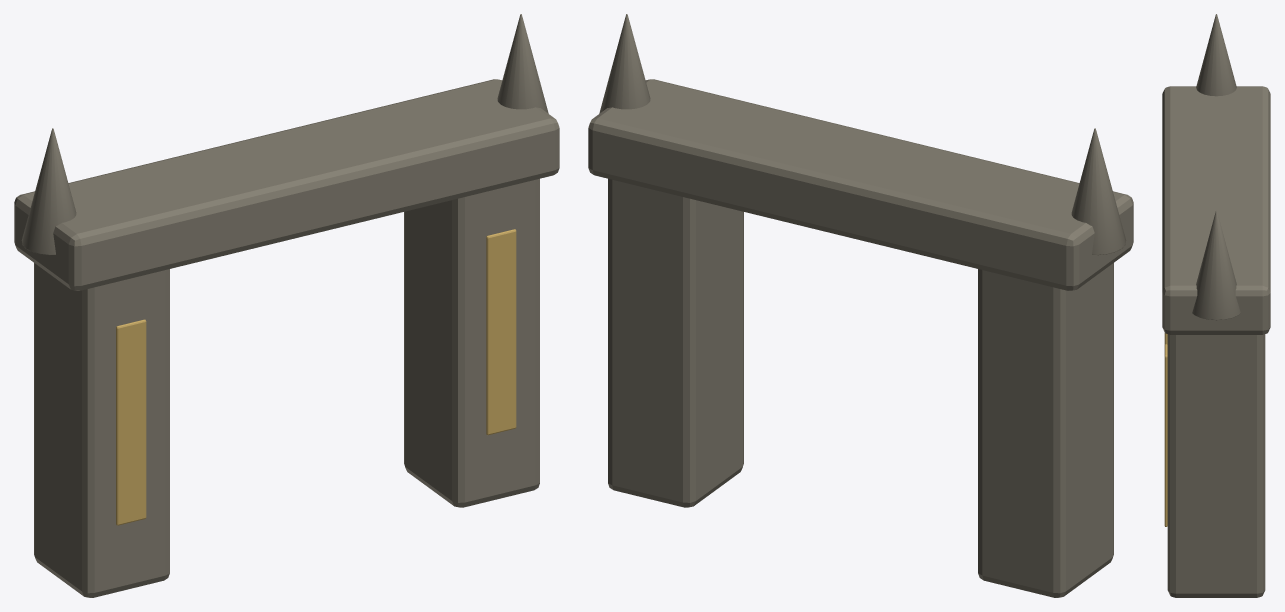
Rendered from landmark-dragon.glb.
3 renders of one model, left to right at view 1: azimuth 30°, elevation 25°; view 2: azimuth 150°, elevation 25°; view 3: azimuth 270°, elevation 25°, orthographic. The views are drawn at different scales.
Visible parts, largest first — view 1: Geometry_Stone, Geometry_Gold; view 2: Geometry_Stone; view 3: Geometry_Stone, Geometry_Gold.
Part boxes in pixels (<box>): Geometry_Stone: <box>14,14,559,597</box>; Geometry_Gold: <box>116,229,516,525</box>; Geometry_Stone: <box>588,14,1133,597</box>; Geometry_Stone: <box>1162,14,1270,597</box>; Geometry_Gold: <box>1164,333,1167,526</box>.
Bounding box in the file's own units: 9.6 × 8 × 2.
